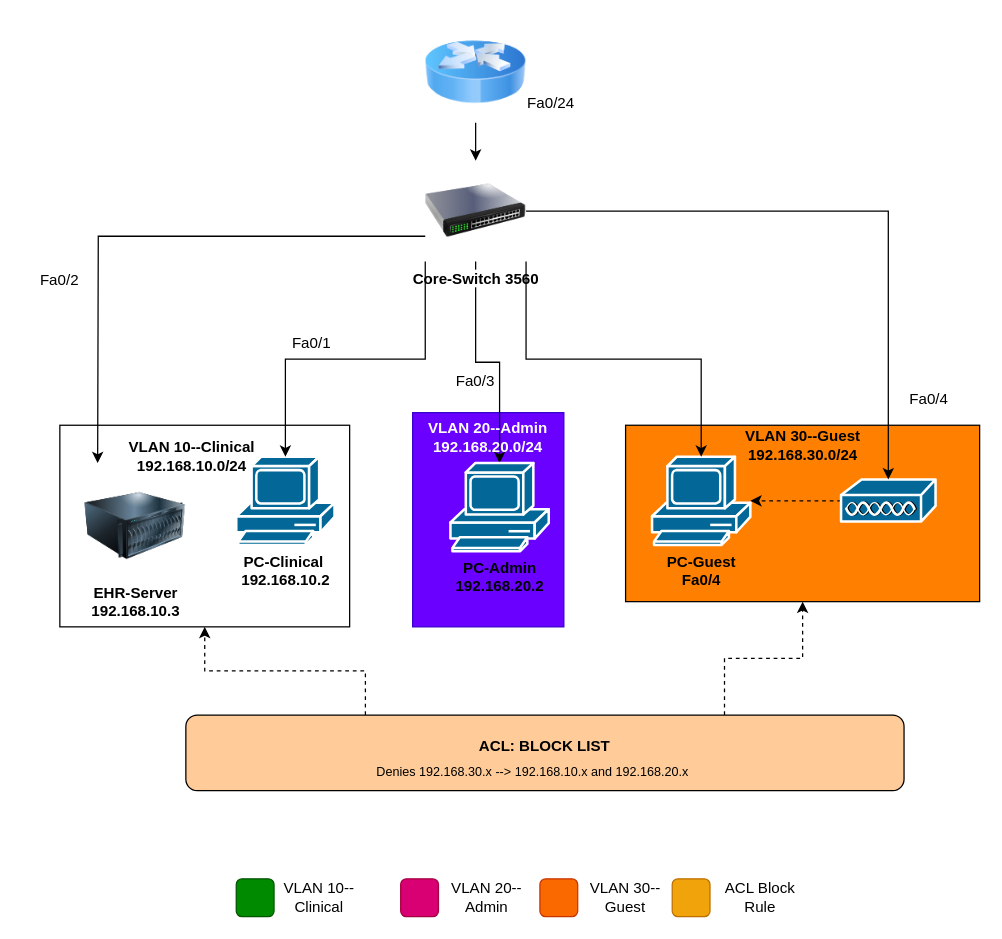
The diagram is 1002 pixels wide and 939 high, and some of its shapes have lost their labels. The shapes that lost their labels are listed below. From the top down, each one's centre as x and y in pixels, then its label:
At point (475, 71): "Gateway-Router 2911".
At point (887, 500): "Guest-AP Wireless".
